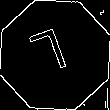L_S: (32, 26, 78, 84)
